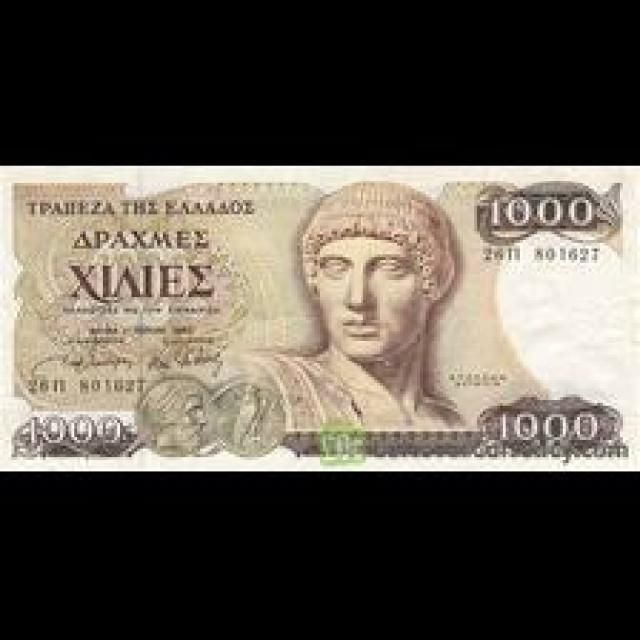banknote: (4, 166, 637, 460), (20, 409, 141, 458), (477, 185, 603, 231), (500, 401, 607, 453)
